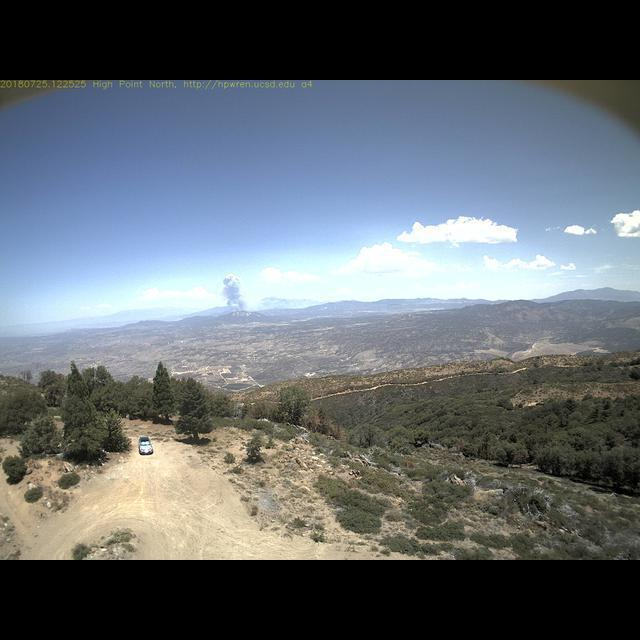Smoke: (217, 276, 250, 317)
